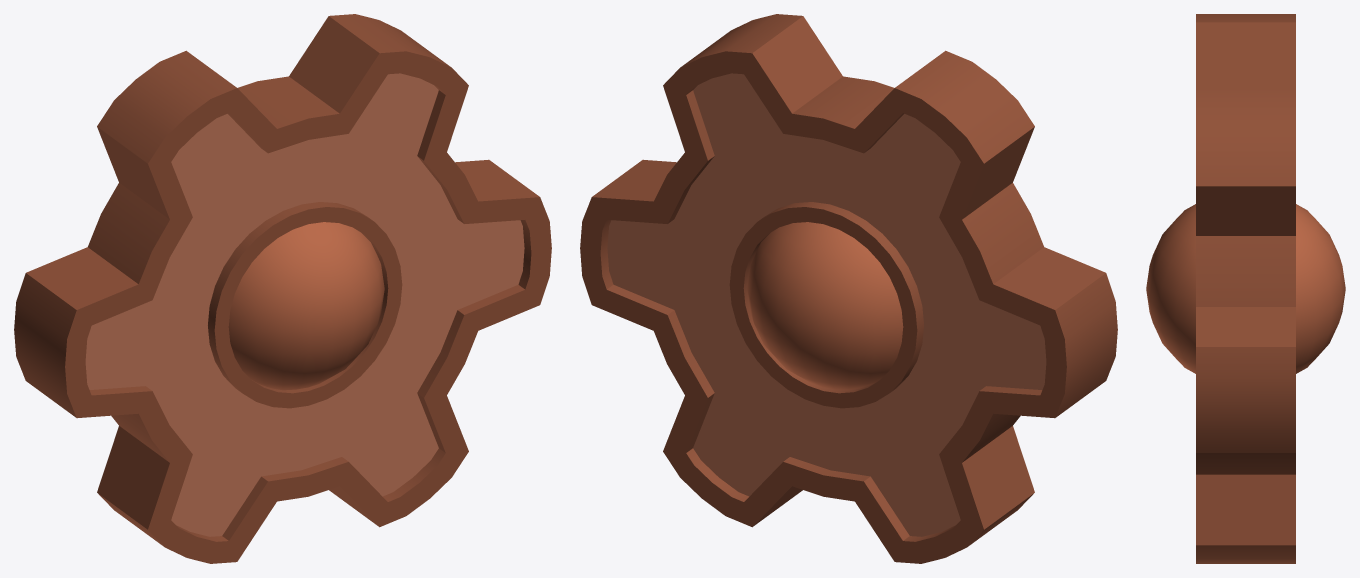
Rendered from Cogwheel A Multi.fbx.
The picture shows the model from 3 angles, left to right: view 1: azimuth 30°, elevation 25°; view 2: azimuth 150°, elevation 25°; view 3: azimuth 270°, elevation 25°; orthographic projection.
Visible parts, largest first — view 1: Cogwheel A; view 2: Cogwheel A; view 3: Cogwheel A.
Part boxes in pixels (x1,y1,x2,y2): Cogwheel A: (14, 14, 551, 563); Cogwheel A: (580, 14, 1117, 563); Cogwheel A: (1146, 14, 1345, 563).
Bounding box in the file's own units: 1.07 × 0.9978 × 0.3881.
